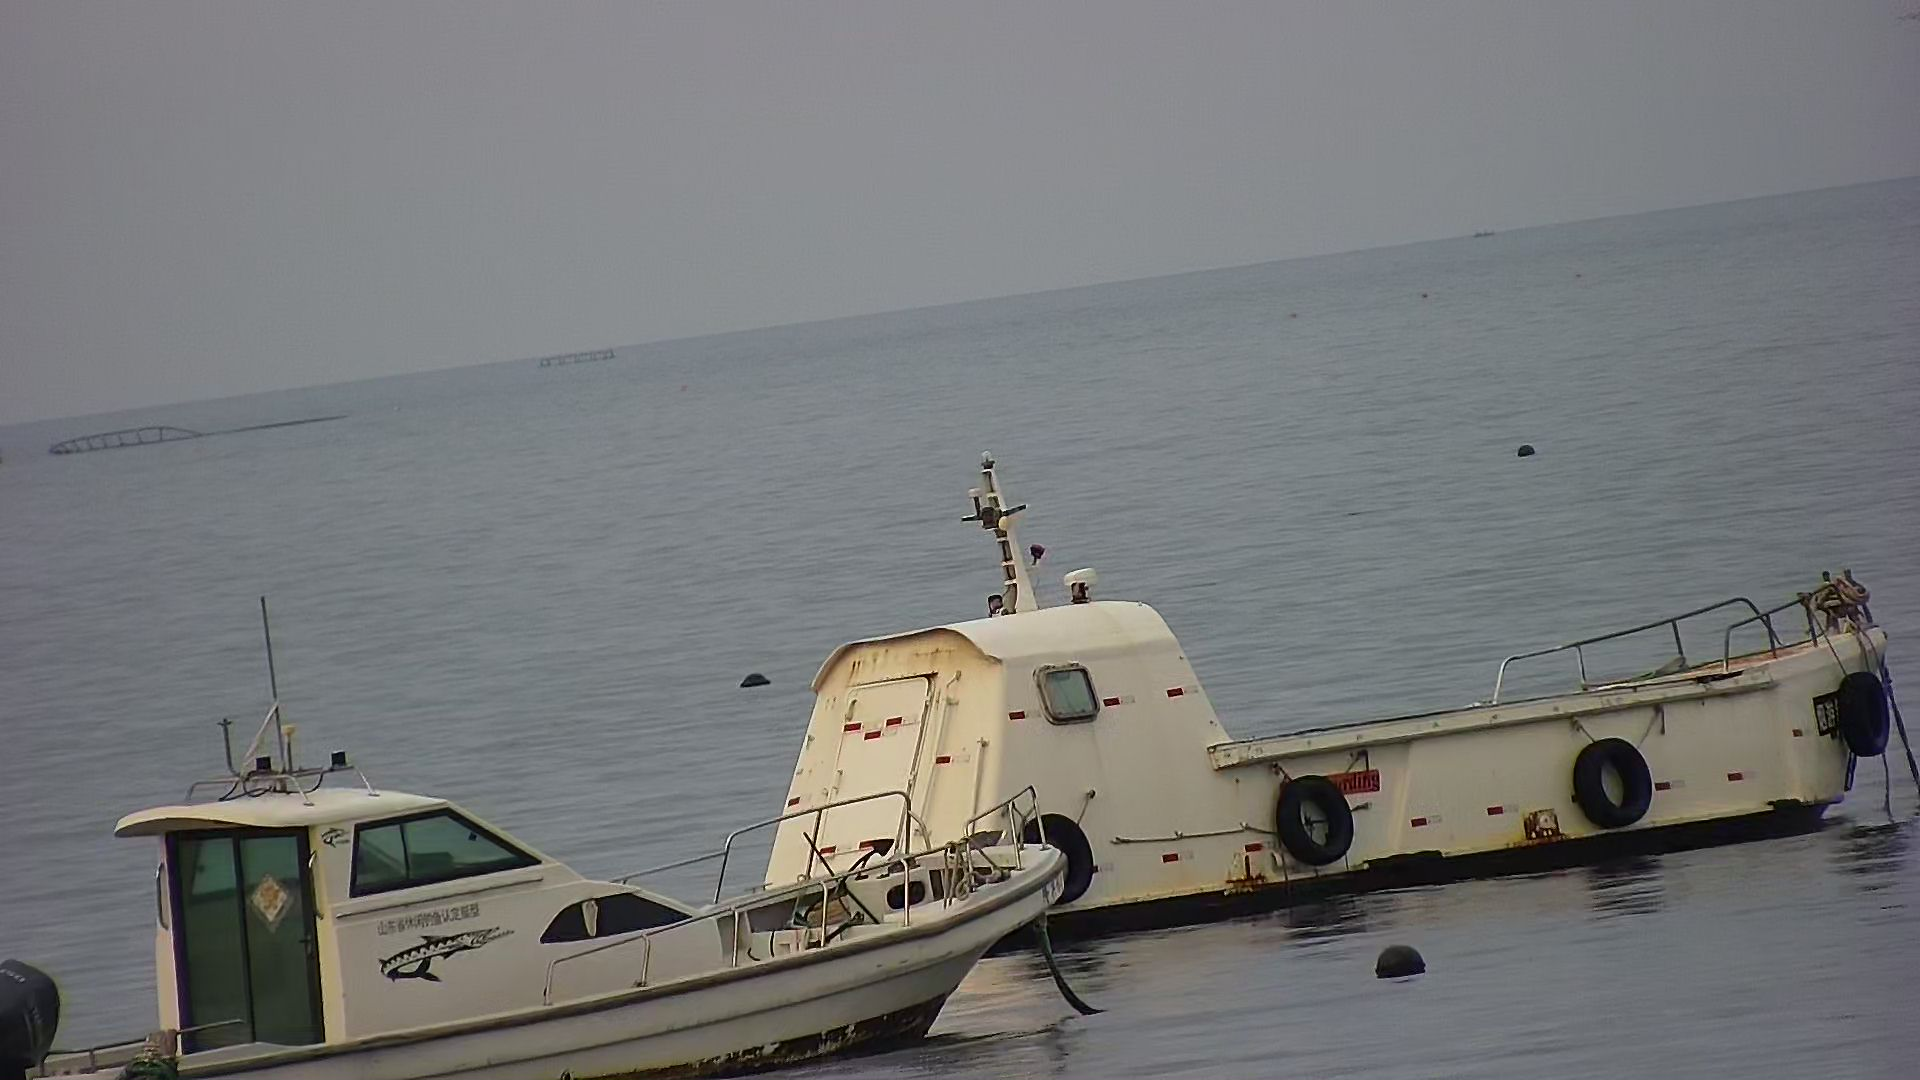ball: (1375, 928, 1429, 994), (1513, 436, 1542, 468)
boat: (692, 448, 1902, 887), (4, 782, 1080, 1080)
